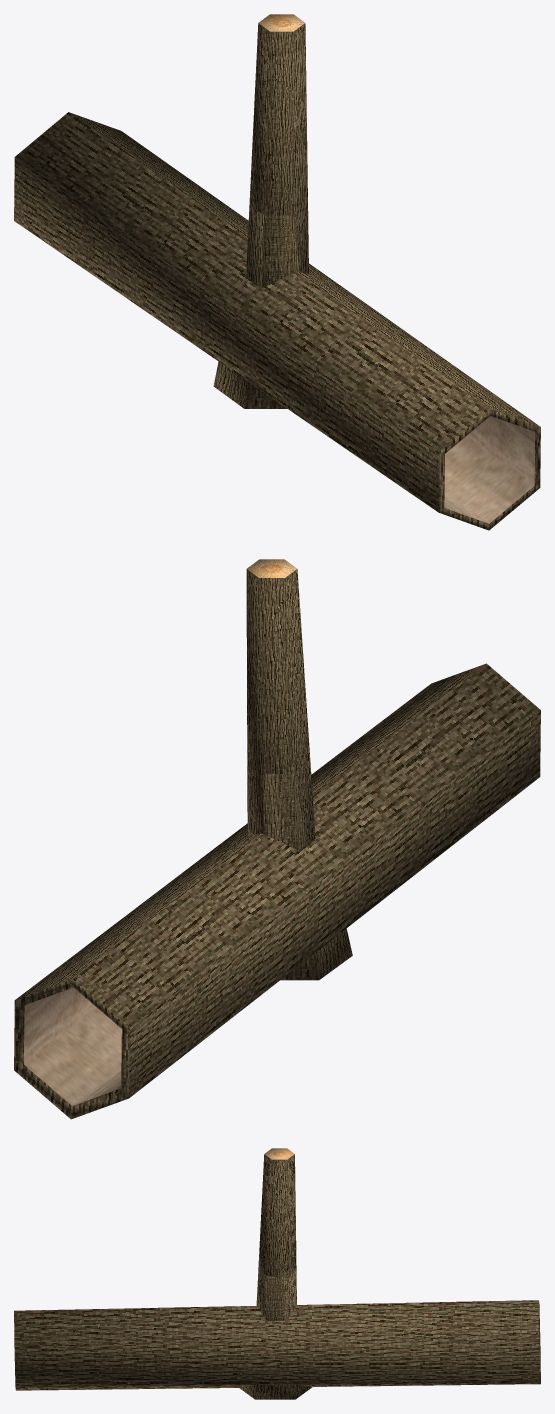
The model's file is Pine Tree Stumps.fbx.
3 views of the same model, one above another, from view 1: azimuth 30°, elevation 25°; view 2: azimuth 150°, elevation 25°; view 3: azimuth 270°, elevation 25° (orthographic). The views are drawn at different scales.
Parts seen in each view (by area): view 1: Pine Stump 4, Pine Stump 1, Pine Stump 2, Pine Stump 3; view 2: Pine Stump 4, Pine Stump 1, Pine Stump 2, Pine Stump 3; view 3: Pine Stump 4, Pine Stump 1, Pine Stump 2, Pine Stump 3.
Boxes of the visible parts, <box> form: Pine Stump 4: <box>14,112,540,530</box>; Pine Stump 1: <box>249,14,308,287</box>; Pine Stump 2: <box>246,205,300,287</box>; Pine Stump 3: <box>213,361,287,408</box>; Pine Stump 4: <box>14,663,540,1119</box>; Pine Stump 1: <box>246,559,315,849</box>; Pine Stump 2: <box>263,773,307,850</box>; Pine Stump 3: <box>280,928,352,980</box>; Pine Stump 4: <box>14,1300,540,1390</box>; Pine Stump 1: <box>256,1148,296,1320</box>; Pine Stump 2: <box>264,1269,296,1320</box>; Pine Stump 3: <box>239,1384,312,1399</box>.
Size of the model in its own units: 0.8053 by 2.25 by 4.57.
Materials: 3 (3 with a texture image).
